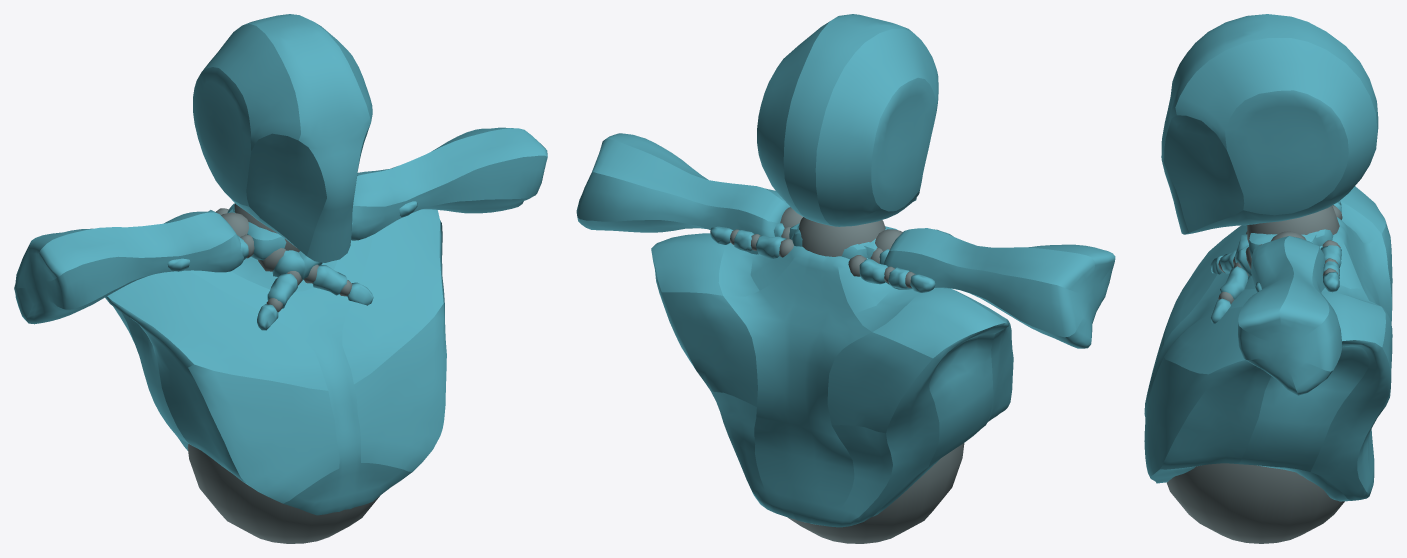
The model's file is AvatarParts.fbx.
3 views of the same model, side by side, from view 1: azimuth 30°, elevation 25°; view 2: azimuth 150°, elevation 25°; view 3: azimuth 270°, elevation 25° (orthographic).
Visible parts, largest first — view 1: Body, Head, LeftHand, RightHand; view 2: Body, Head, LeftHand, RightHand; view 3: Body, Head, RightHand, LeftHand.
Part boxes in pixels (x1,y1,x2,y2): Body: (105,203,446,543); Head: (193,14,372,262); LeftHand: (14,201,417,324); RightHand: (167,127,547,330); Body: (651,217,1013,543); Head: (757,14,938,226); LeftHand: (710,223,1115,348); RightHand: (576,133,935,292); Body: (1144,186,1392,543); Head: (1161,14,1378,234); RightHand: (1210,201,1342,395); LeftHand: (1210,229,1341,324).
Size of the model in its own units: 0.2829 by 0.6622 by 0.6423.
